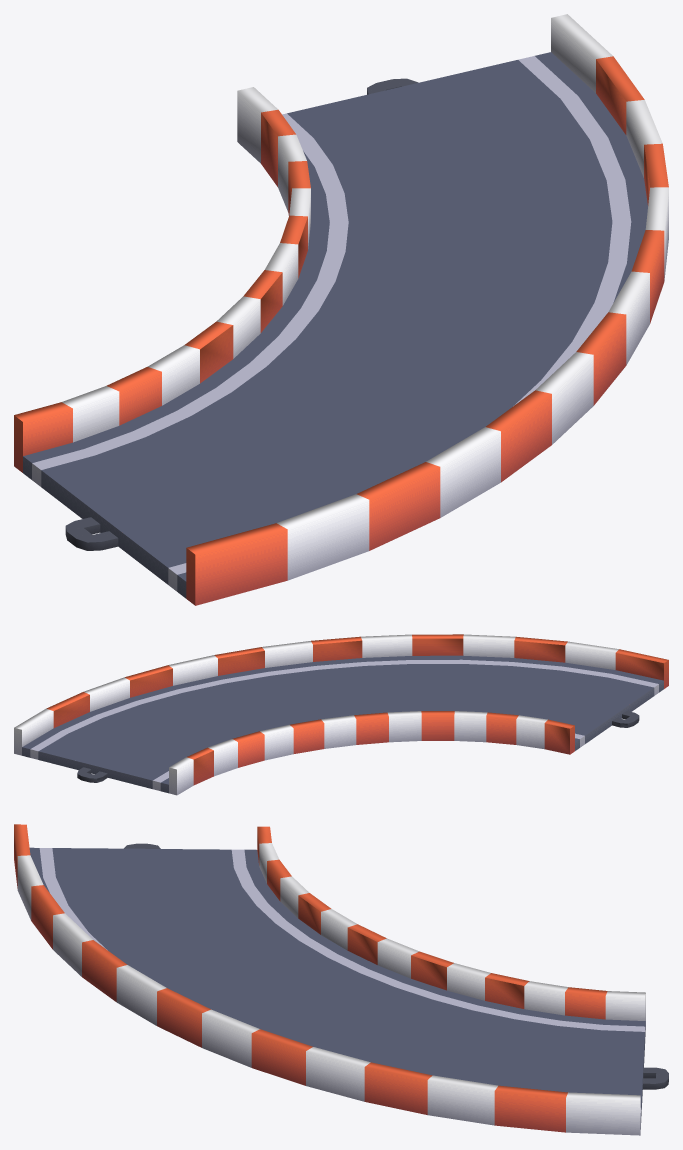
Rendered from track-road-wide-corner-large.019_lev2.glb.
The picture shows the model from 3 angles, top to bottom: view 1: azimuth 30°, elevation 25°; view 2: azimuth 150°, elevation 25°; view 3: azimuth 270°, elevation 25°; orthographic projection. The views are drawn at different scales.
Visible parts, largest first — view 1: track-road-wide-corner-large.019_lev2; view 2: track-road-wide-corner-large.019_lev2; view 3: track-road-wide-corner-large.019_lev2.
Boxes of the visible parts, bbox=[...] form: track-road-wide-corner-large.019_lev2: bbox=[14, 14, 668, 605]; track-road-wide-corner-large.019_lev2: bbox=[14, 634, 668, 795]; track-road-wide-corner-large.019_lev2: bbox=[14, 824, 668, 1135].
Size of the model in its own units: 5.29 by 0.3 by 5.11.
1 material, 1 textured.
